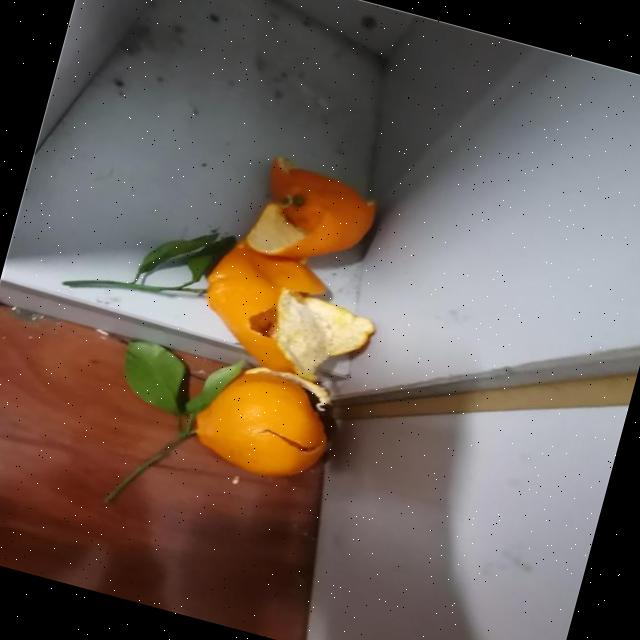orange-peel: (184, 353, 342, 490)
